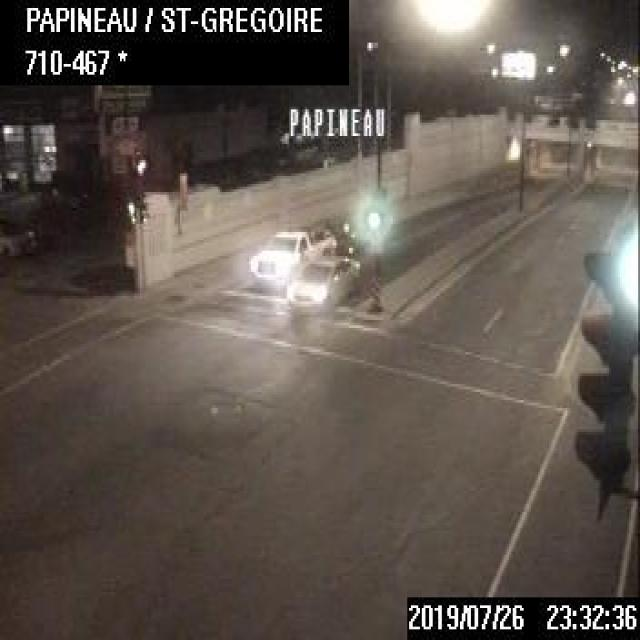vehicle: (246, 224, 336, 288), (284, 255, 359, 313)
